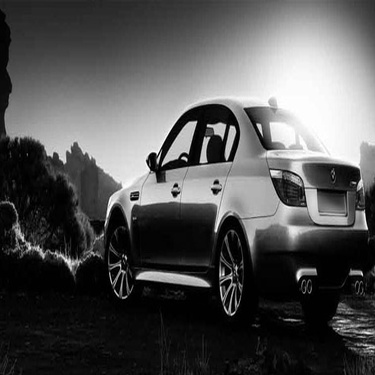car: (83, 89, 370, 338)
